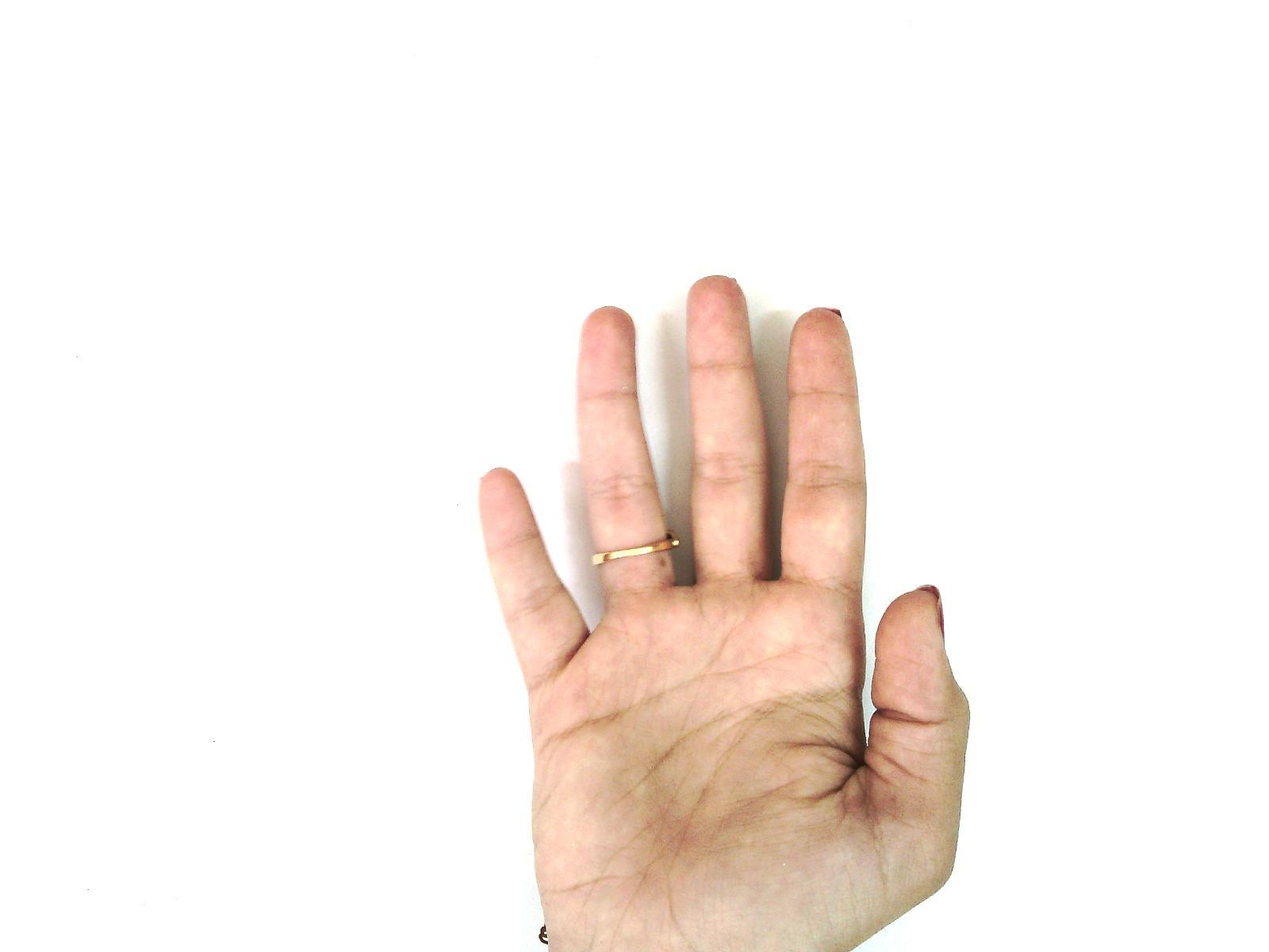open_palm: (474, 274, 973, 951)
